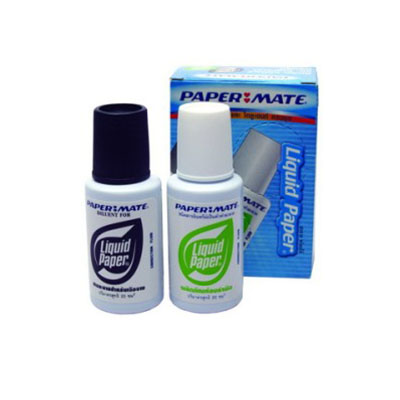Correction_fluid: (165, 95, 247, 316), (82, 103, 166, 317)
